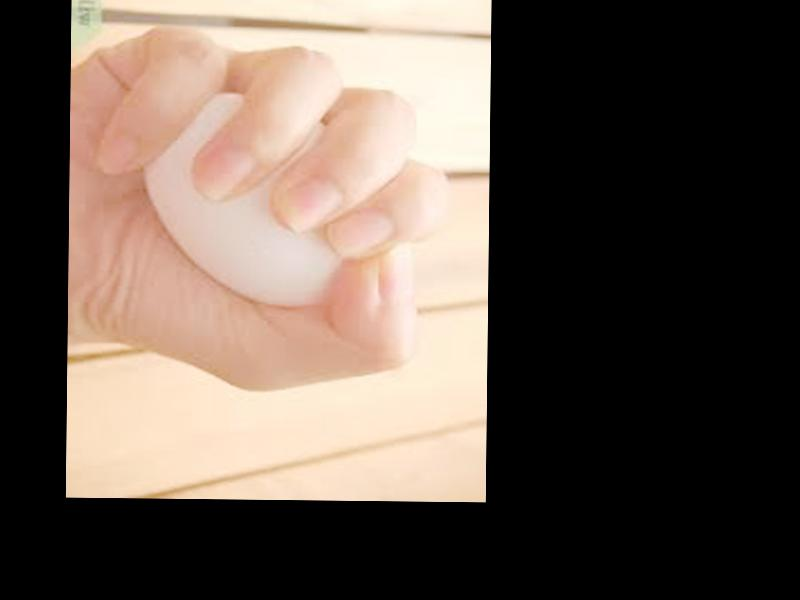Eggs: (143, 90, 343, 308)
